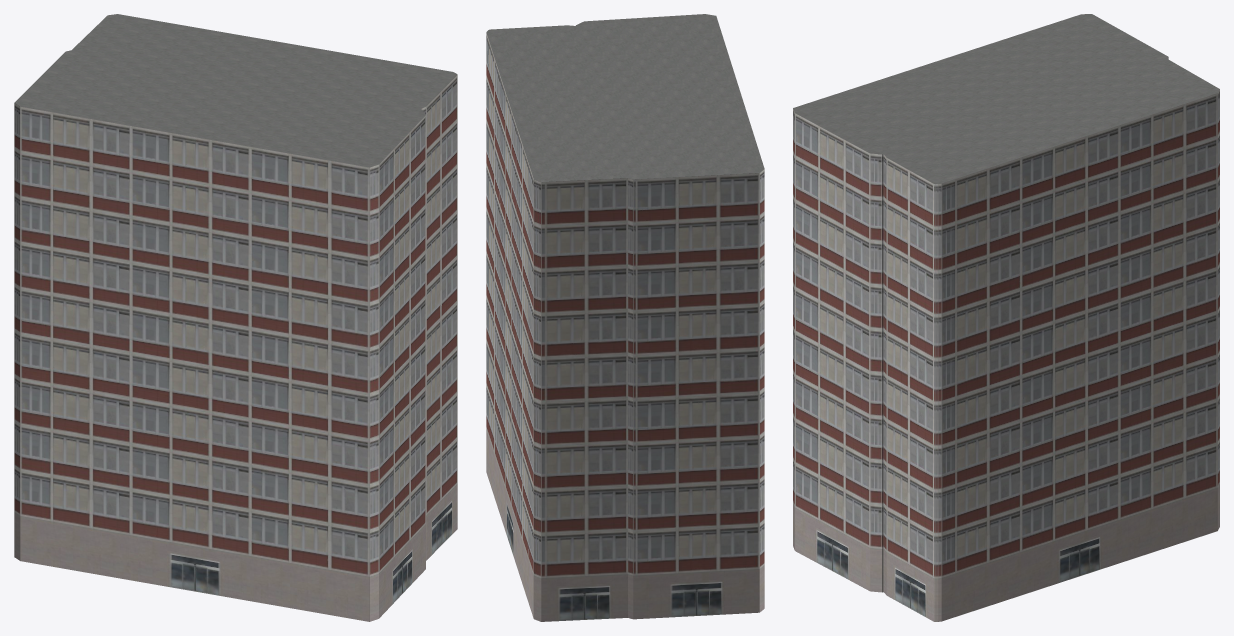
3 views of the same model, side by side, from view 1: azimuth 30°, elevation 25°; view 2: azimuth 150°, elevation 25°; view 3: azimuth 270°, elevation 25° (orthographic). The views are drawn at different scales.
Parts seen in each view (by area): view 1: BuildingMaster_1984193822844463977200000000_0, BuildingMaster_1984193822844463977200000000_1; view 2: BuildingMaster_1984193822844463977200000000_0, BuildingMaster_1984193822844463977200000000_1; view 3: BuildingMaster_1984193822844463977200000000_0, BuildingMaster_1984193822844463977200000000_1.
Part boxes in pixels (left/top/right/bottom): BuildingMaster_1984193822844463977200000000_0: left=14, top=75, right=457, bottom=621; BuildingMaster_1984193822844463977200000000_1: left=14, top=14, right=457, bottom=167; BuildingMaster_1984193822844463977200000000_0: left=486, top=33, right=764, bottom=621; BuildingMaster_1984193822844463977200000000_1: left=486, top=14, right=764, bottom=182; BuildingMaster_1984193822844463977200000000_0: left=793, top=57, right=1219, bottom=621; BuildingMaster_1984193822844463977200000000_1: left=793, top=14, right=1219, bottom=183.
Bounding box in the file's own units: 29.13 × 35 × 30.91.
2 materials, 2 textured.
